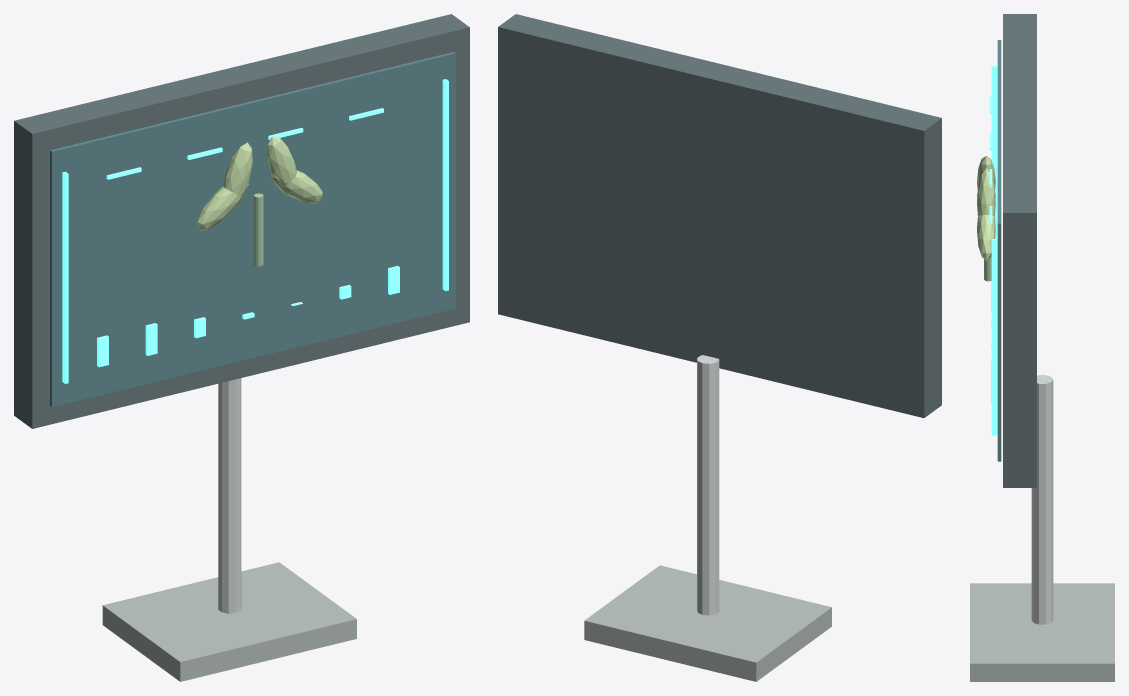
Rendered from s7-e0e1-w03-hologram-monitor.glb.
The picture shows the model from 3 angles, left to right: view 1: azimuth 30°, elevation 25°; view 2: azimuth 150°, elevation 25°; view 3: azimuth 270°, elevation 25°; orthographic projection. The views are drawn at different scales.
Visible parts, largest first — view 1: holographic-active-screen-001, hologram-monitor-frame-000, monitor-base-021, monitor-pedestal-020, edge-lit-panel-018, edge-lit-panel-019, leaf-mesh-014, leaf-mesh-015, leaf-mesh-016, leaf-mesh-017, holo-stem-013; view 2: hologram-monitor-frame-000, monitor-base-021, monitor-pedestal-020; view 3: hologram-monitor-frame-000, monitor-base-021, monitor-pedestal-020, holographic-active-screen-001, edge-lit-panel-019, edge-lit-panel-018, leaf-mesh-016, leaf-mesh-017, leaf-mesh-015.
Boxes of the visible parts, x1,y1,x2,y2 form: holographic-active-screen-001: (50, 52, 455, 406); hologram-monitor-frame-000: (14, 14, 469, 428); monitor-base-021: (102, 562, 356, 681); monitor-pedestal-020: (218, 378, 241, 613); edge-lit-panel-018: (62, 171, 68, 383); edge-lit-panel-019: (442, 79, 448, 291); leaf-mesh-014: (197, 183, 248, 230); leaf-mesh-015: (223, 142, 252, 208); leaf-mesh-016: (267, 136, 296, 195); leaf-mesh-017: (271, 170, 322, 203); holo-stem-013: (254, 193, 263, 266); hologram-monitor-frame-000: (498, 14, 941, 417); monitor-base-021: (584, 565, 831, 681); monitor-pedestal-020: (697, 355, 719, 615); hologram-monitor-frame-000: (1003, 14, 1036, 487); monitor-base-021: (970, 583, 1114, 681); monitor-pedestal-020: (1031, 375, 1053, 624); holographic-active-screen-001: (997, 40, 1001, 461); edge-lit-panel-019: (991, 239, 997, 435); edge-lit-panel-018: (991, 66, 997, 238); leaf-mesh-016: (977, 168, 995, 216); leaf-mesh-017: (977, 215, 995, 260); leaf-mesh-015: (977, 156, 995, 189).
Bounding box in the file's own units: 1.04 × 1.29 × 0.32.
